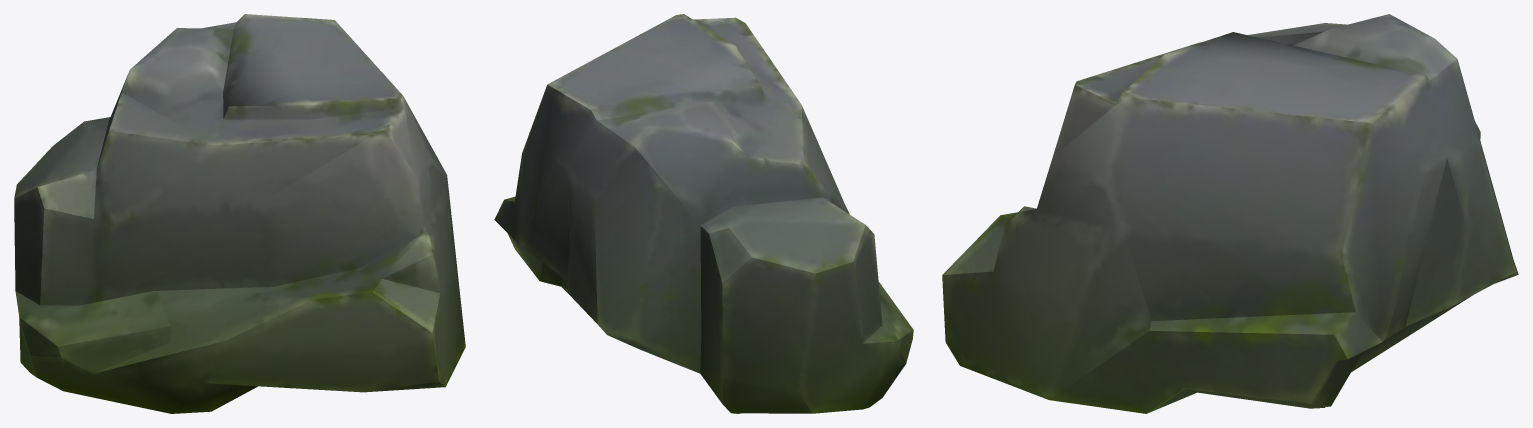
The model's file is Rock_Medium_3@lod.gltf.
The picture shows the model from 3 angles, left to right: view 1: azimuth 30°, elevation 25°; view 2: azimuth 150°, elevation 25°; view 3: azimuth 270°, elevation 25°; orthographic projection. The views are drawn at different scales.
Visible parts, largest first — view 1: Rock_Medium_3; view 2: Rock_Medium_3; view 3: Rock_Medium_3.
Boxes of the visible parts, x1=… form: Rock_Medium_3: x1=14, y1=14, x2=465, y2=413; Rock_Medium_3: x1=494, y1=14, x2=913, y2=413; Rock_Medium_3: x1=942, y1=14, x2=1518, y2=413.
Bounding box in the file's own units: 3.4 × 2.28 × 3.48.
1 material, 1 textured.
